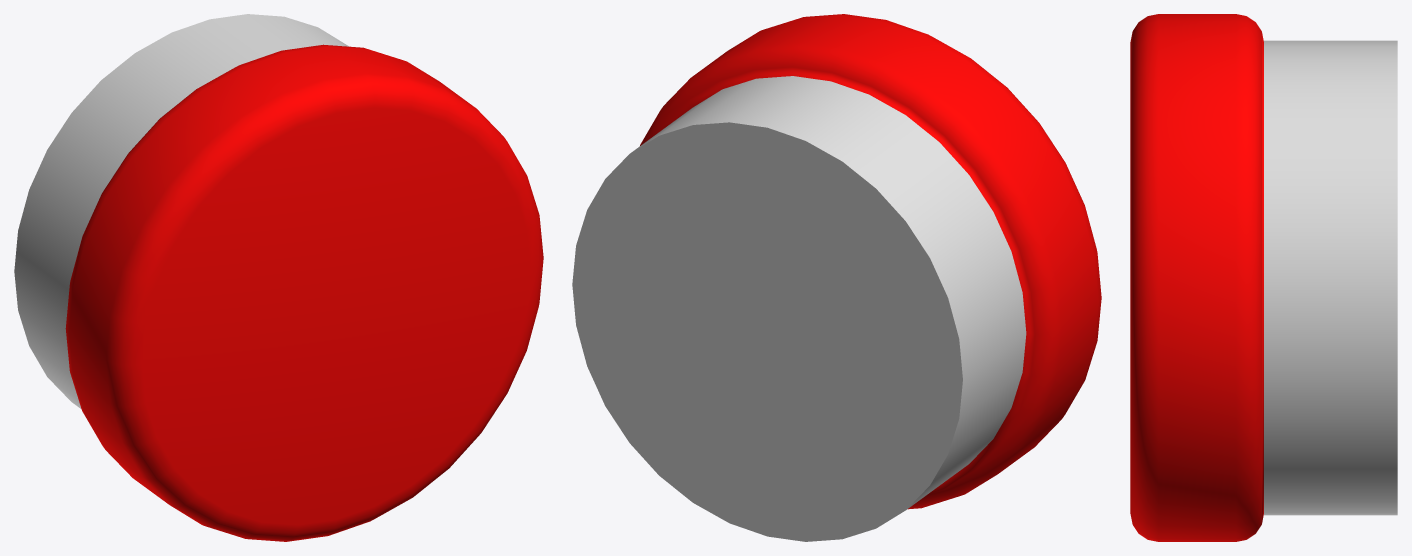
The model's file is Pad_Bumper_Red_White_Red.glb.
The picture shows the model from 3 angles, left to right: view 1: azimuth 30°, elevation 25°; view 2: azimuth 150°, elevation 25°; view 3: azimuth 270°, elevation 25°; orthographic projection. The views are drawn at different scales.
Visible parts, largest first — view 1: Pad_Bumper_Red_White_Red; view 2: Pad_Bumper_Red_White_Red; view 3: Pad_Bumper_Red_White_Red.
Boxes of the visible parts, box(x1,y1,x2,y2) form: Pad_Bumper_Red_White_Red: box(14, 14, 543, 541); Pad_Bumper_Red_White_Red: box(572, 14, 1101, 541); Pad_Bumper_Red_White_Red: box(1130, 14, 1397, 541).
Size of the model in its own units: 4.45 by 4.45 by 2.25.
